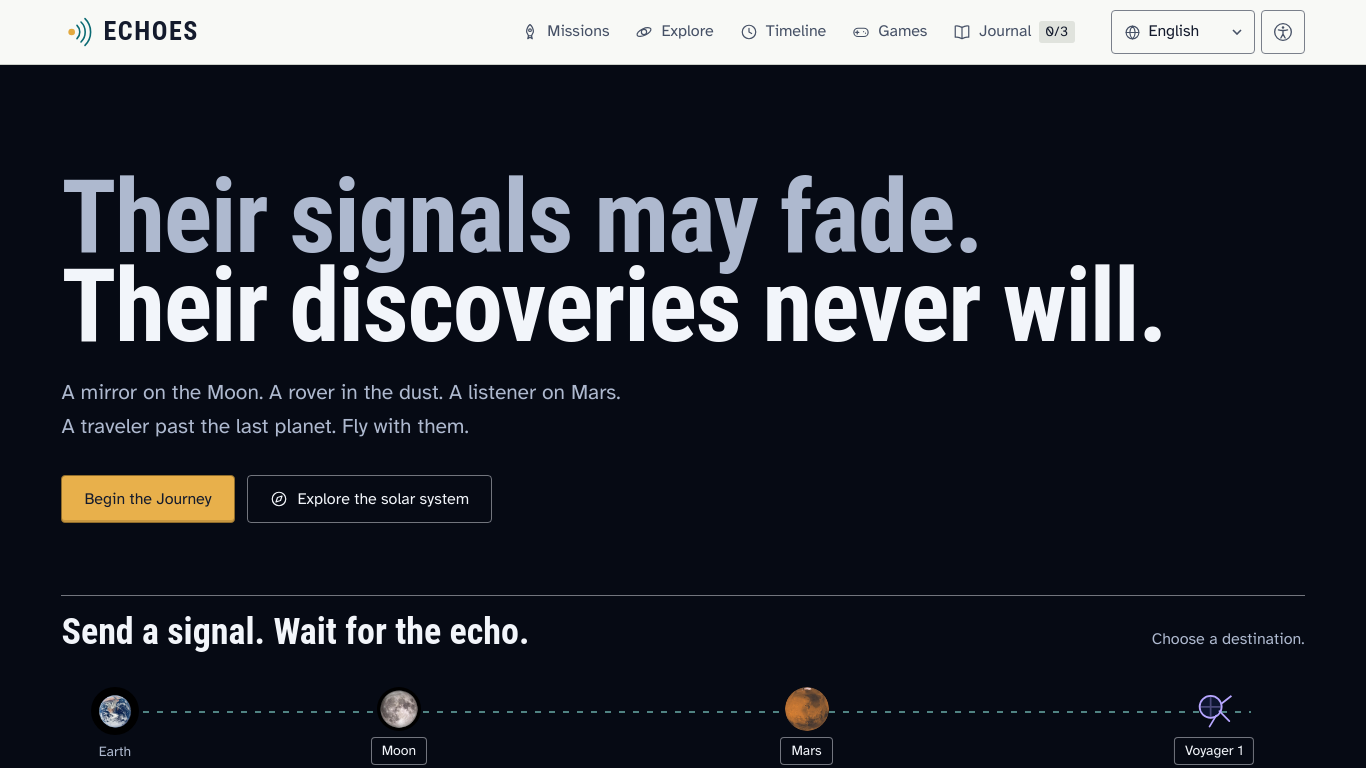
Test: switching language in the app › switches to Arabic right-to-left and back, and to Kazakh
Select "العربية" in the dropdown named "Language" at {"x": 1197, "y": 32}, box [1146,11,1248,53]
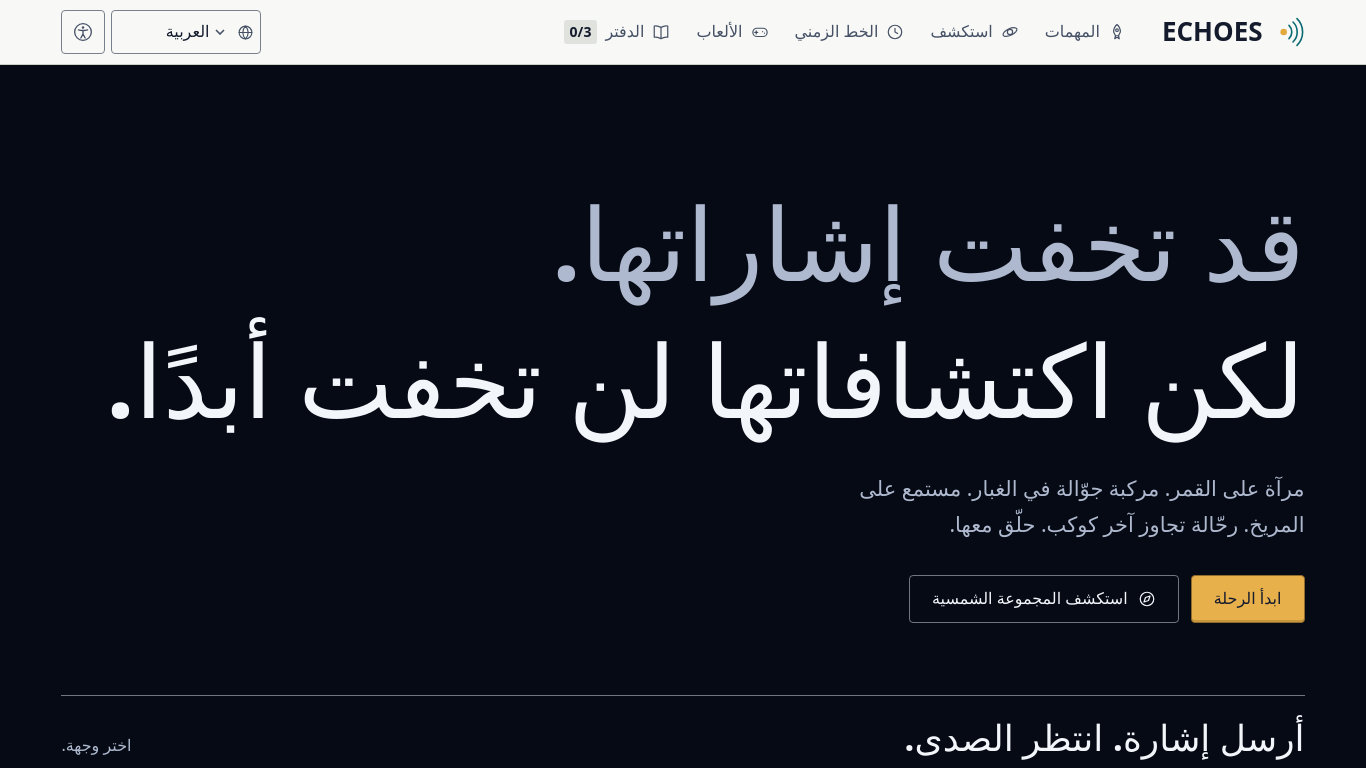
Result: the link "استكشف" is shown at [918,10,1031,54]
Select "Қазақша" in the dropdown named "اللغة" at {"x": 178, "y": 32}, box [124,11,232,53]
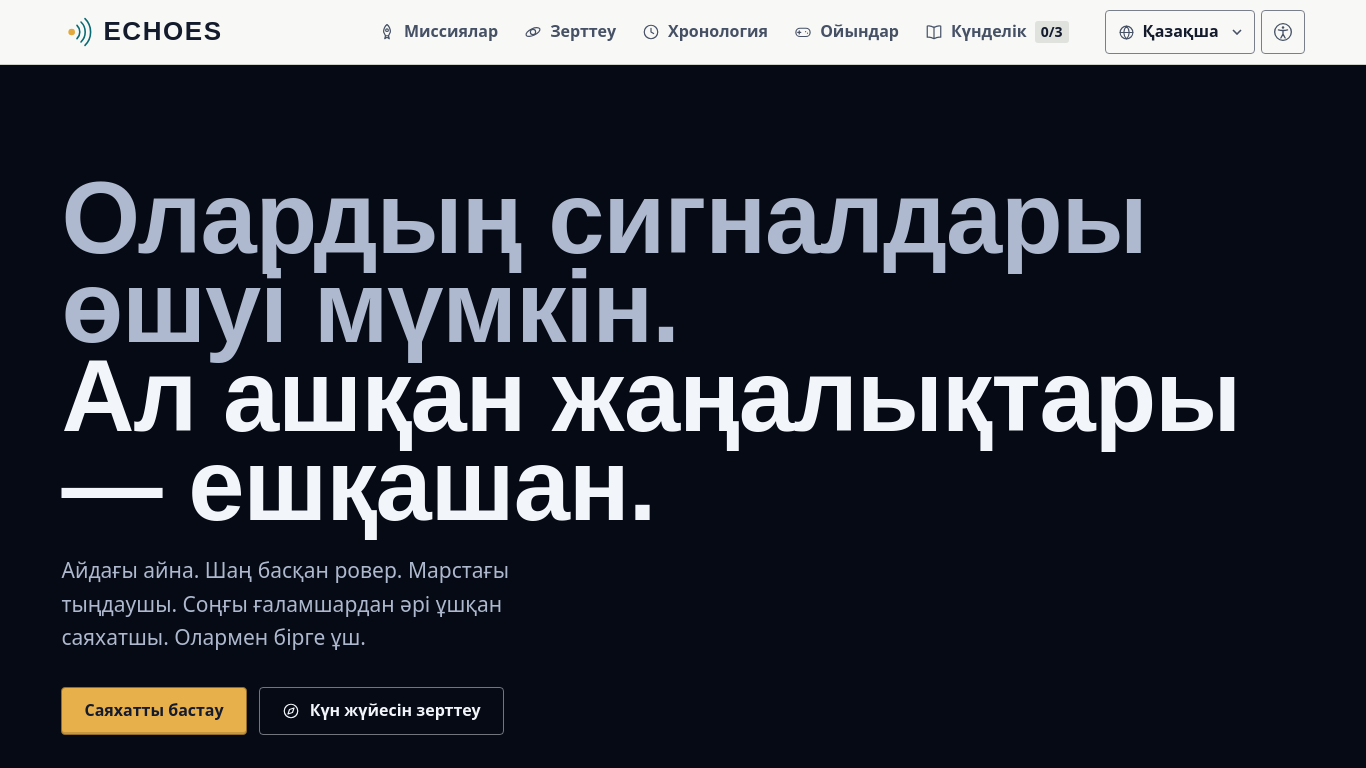
Result: the link "Зерттеу" is shown at [512,10,628,54]
